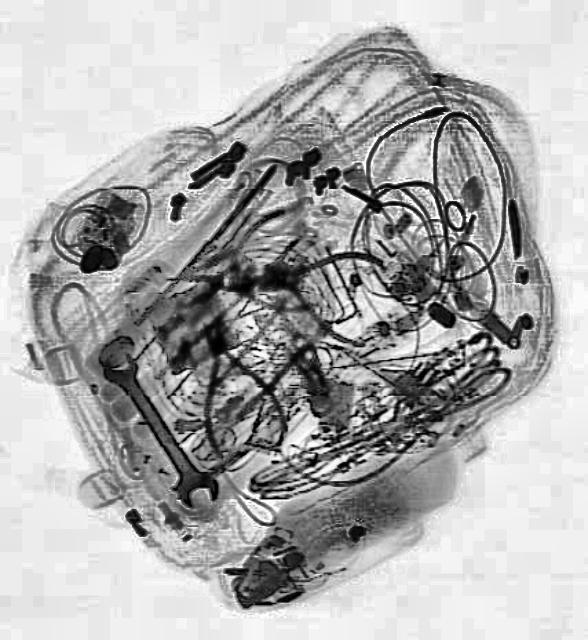Pliers: (171, 305, 291, 459), (259, 231, 389, 347), (185, 200, 309, 314)
Wrench: (92, 340, 222, 514)
